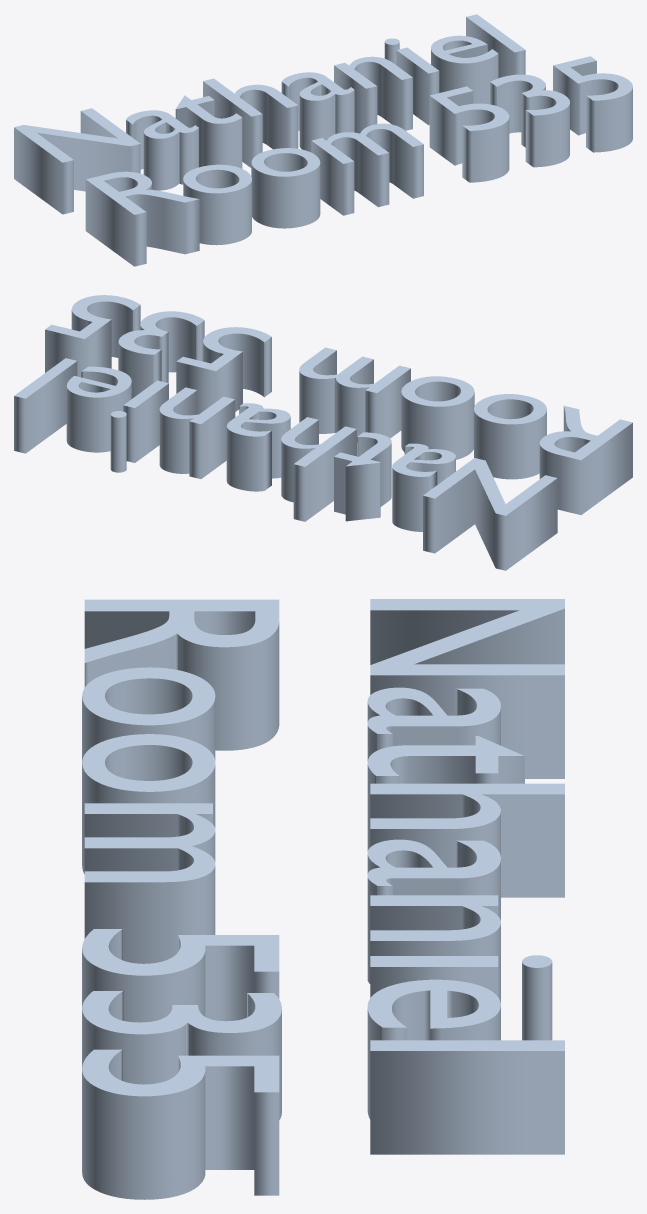
File: nathaniel-535.gltf
3 renders of one model, top to bottom at view 1: azimuth 30°, elevation 25°; view 2: azimuth 150°, elevation 25°; view 3: azimuth 270°, elevation 25°, orthographic. The views are drawn at different scales.
Parts seen in each view (by area): view 1: Text; view 2: Text; view 3: Text.
Part boxes in pixels (<box>): Text: <box>14,14,632,266</box>; Text: <box>14,295,632,570</box>; Text: <box>82,599,564,1199</box>.
Size of the model in its own units: 4.12 by 0.4 by 1.69.
